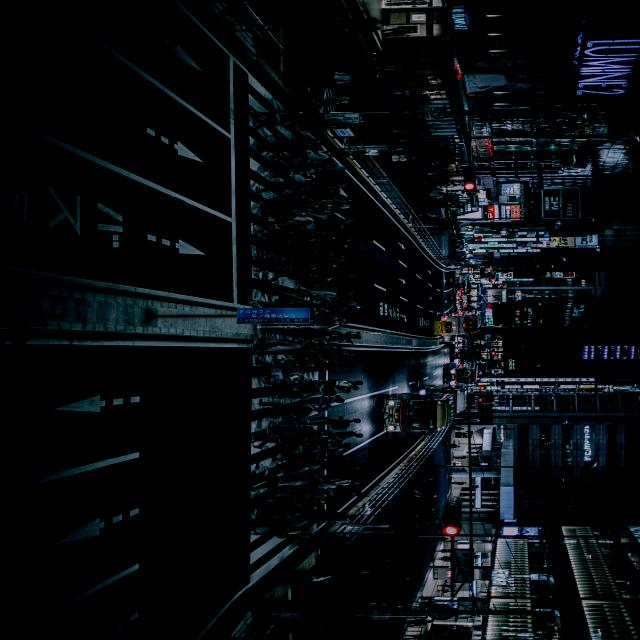bus: (374, 395, 457, 441), (443, 363, 481, 386), (442, 315, 482, 335)
